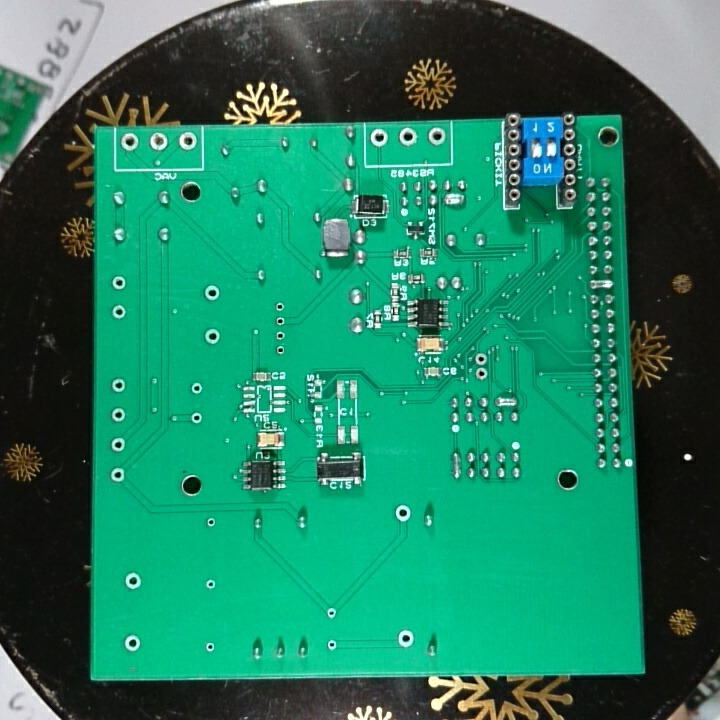F: (122, 570, 144, 595), (392, 503, 414, 527), (368, 126, 390, 149), (118, 130, 140, 153), (120, 633, 142, 655), (176, 131, 199, 152), (394, 628, 417, 649), (425, 125, 447, 146), (397, 126, 417, 149), (148, 130, 168, 152), (202, 326, 222, 348), (108, 465, 128, 486), (110, 272, 128, 294), (202, 284, 222, 303), (109, 376, 126, 398), (109, 302, 128, 321), (109, 405, 128, 424), (108, 435, 127, 454), (473, 365, 491, 384), (188, 409, 204, 429), (323, 636, 341, 653), (472, 350, 490, 367), (188, 380, 204, 398), (202, 514, 218, 532), (271, 299, 286, 315), (203, 577, 218, 593), (323, 604, 338, 620), (272, 327, 287, 342), (203, 639, 216, 655), (273, 314, 287, 328), (274, 343, 288, 356)
P: (492, 392, 519, 410), (449, 448, 463, 482), (584, 277, 616, 291), (441, 192, 467, 208)
